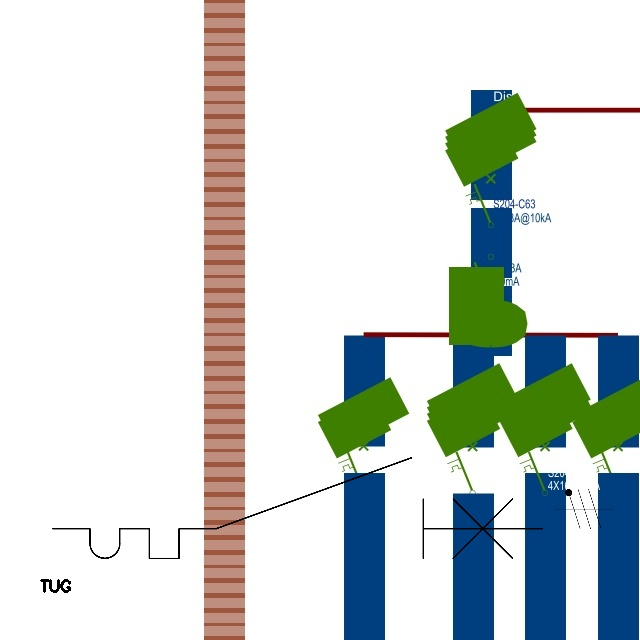interruptor_termomagnetico: (40, 445, 554, 571)
